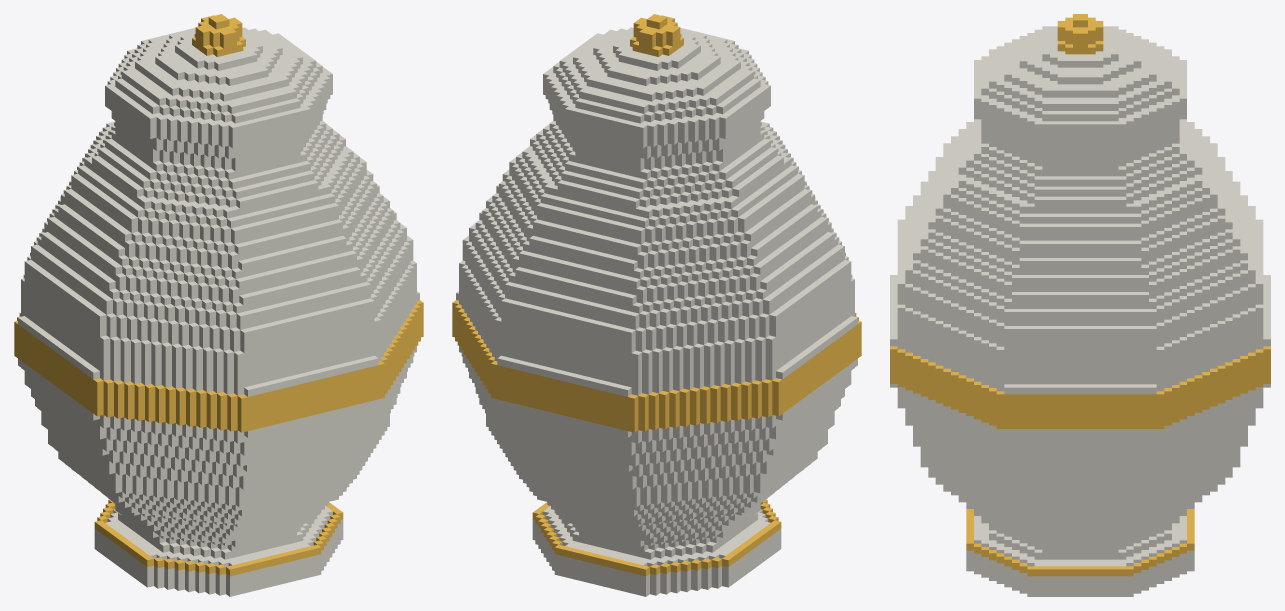
The model's file is porcelain_urn.glb.
3 renders of one model, left to right at view 1: azimuth 30°, elevation 25°; view 2: azimuth 150°, elevation 25°; view 3: azimuth 270°, elevation 25°, orthographic.
Visible parts, largest first — view 1: porcelain_urn:compound; view 2: porcelain_urn:compound; view 3: porcelain_urn:compound.
Boxes of the visible parts, box(x1,y1,x2,y2) form: porcelain_urn:compound: box(14, 14, 423, 596); porcelain_urn:compound: box(452, 14, 861, 596); porcelain_urn:compound: box(890, 14, 1270, 596).
Bounding box in the file's own units: 0.2 × 0.308 × 0.2.
